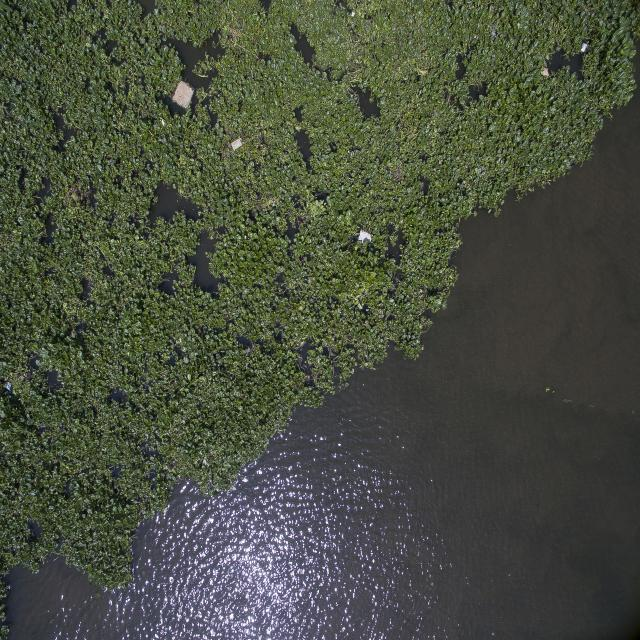plastic: (166, 74, 201, 118), (350, 222, 380, 254), (227, 133, 250, 154), (576, 38, 596, 61), (536, 64, 555, 86)
